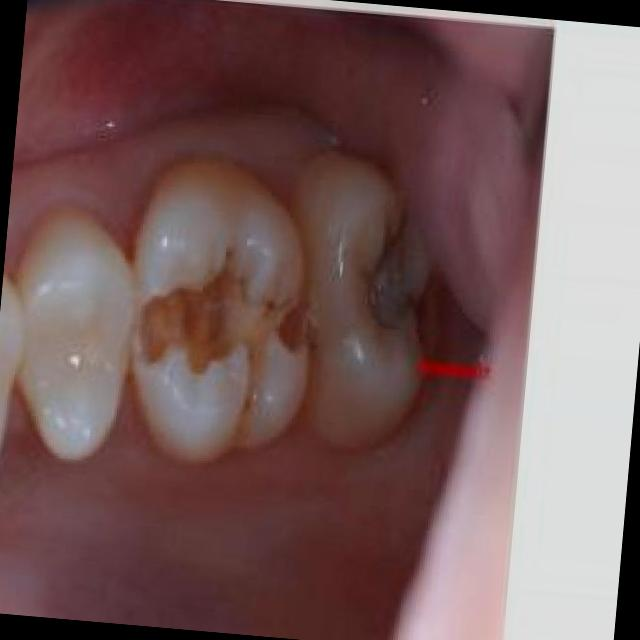caries: (152, 273, 310, 384), (348, 230, 420, 348)
